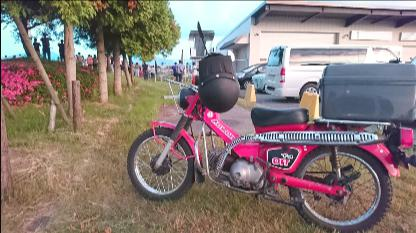Tornado: (140, 48, 192, 74), (156, 62, 192, 72)
